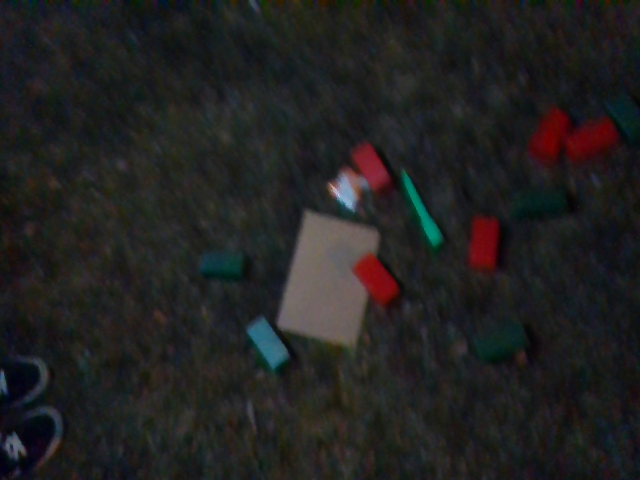Probe: (392, 162, 446, 251)
